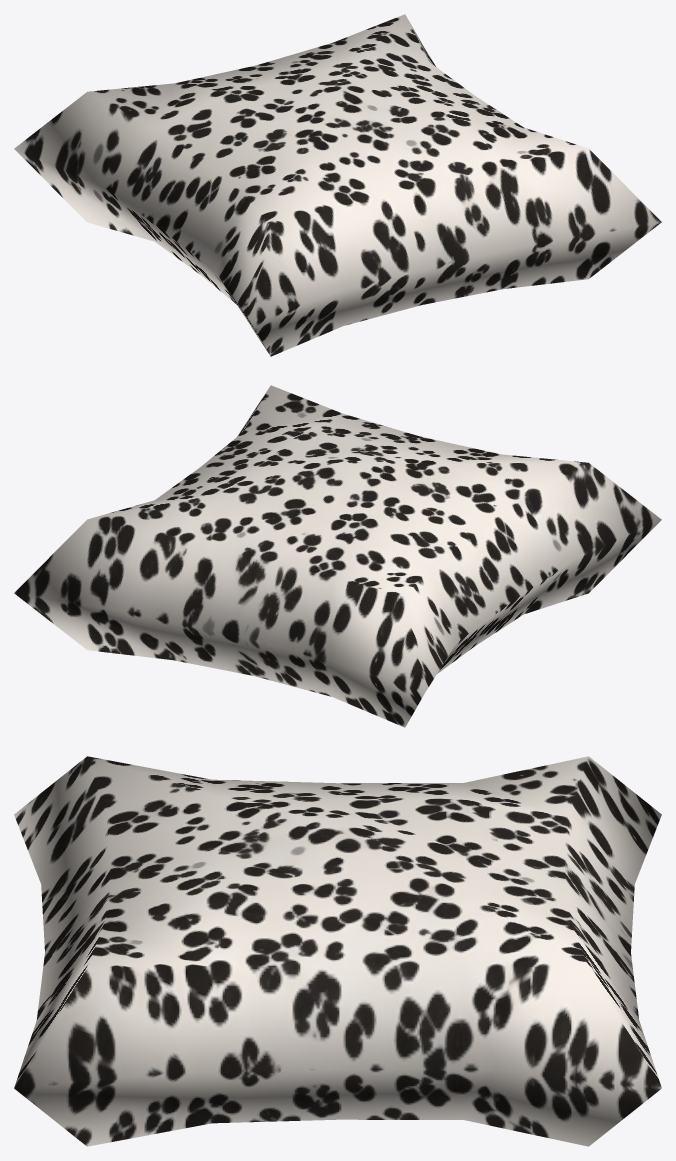
The model's file is pillow2.fbx.
The picture shows the model from 3 angles, top to bottom: view 1: azimuth 30°, elevation 25°; view 2: azimuth 150°, elevation 25°; view 3: azimuth 270°, elevation 25°; orthographic projection. The views are drawn at different scales.
Parts seen in each view (by area): view 1: Cube; view 2: Cube; view 3: Cube.
Part boxes in pixels (box(x1,y1,x2,y2)): Cube: box(14, 14, 661, 356); Cube: box(14, 385, 661, 727); Cube: box(14, 756, 661, 1146).
Size of the model in its own units: 766 by 310 by 766.
